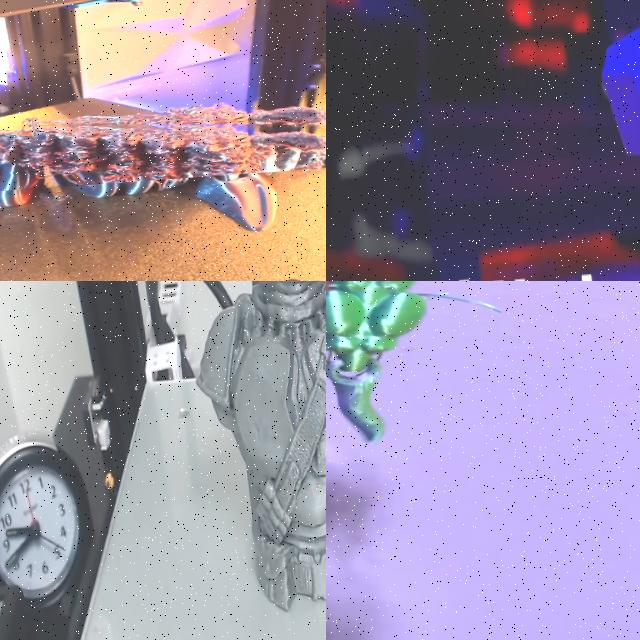spaghetti: (0, 95, 326, 193)
